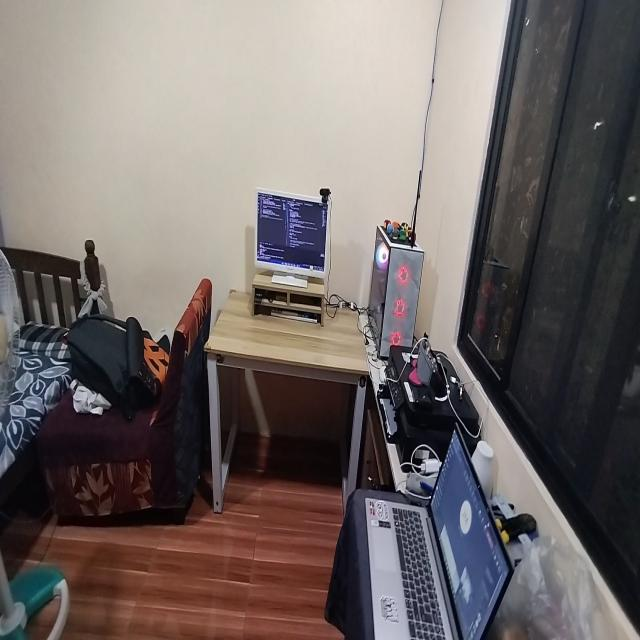table: (205, 282, 372, 530)
